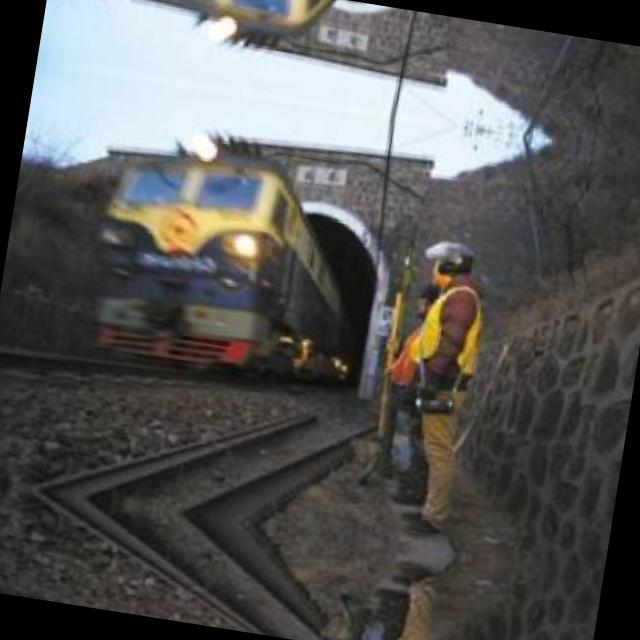helmet: (421, 232, 473, 282)
